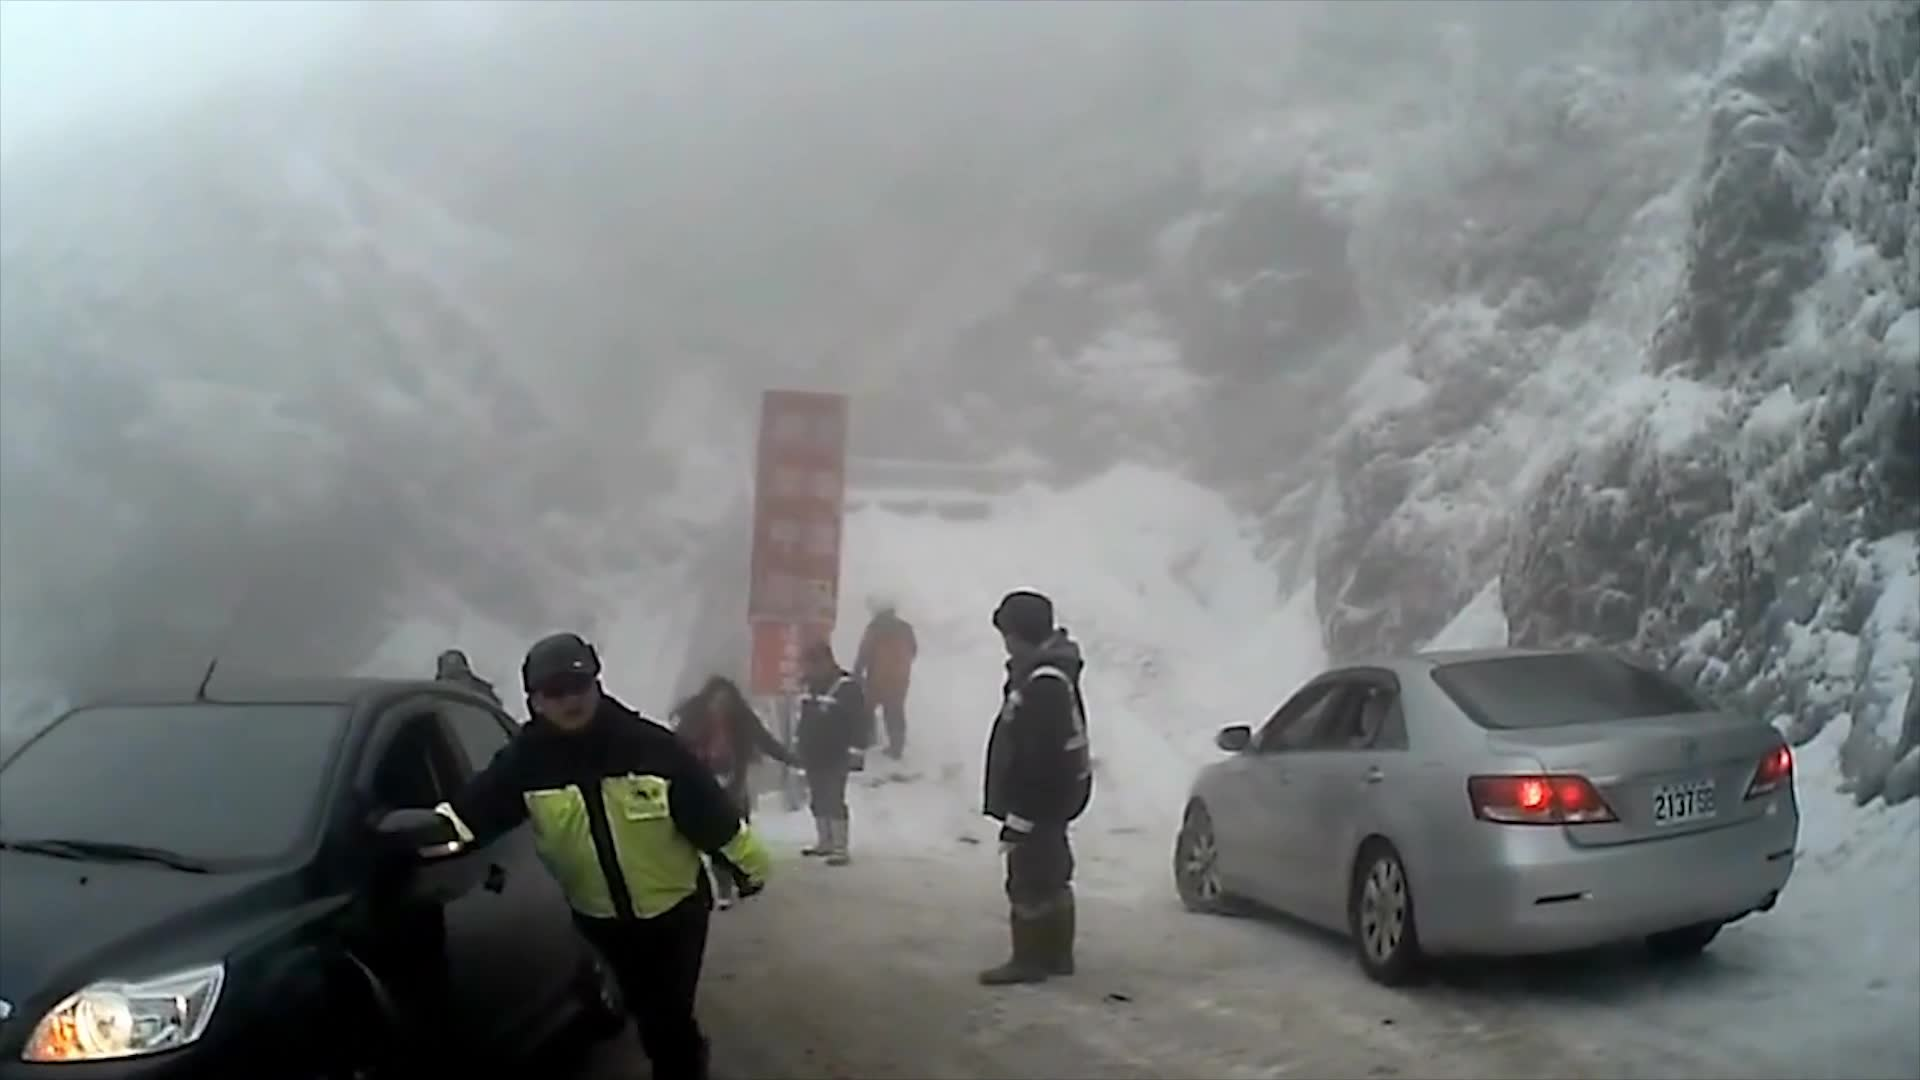pedestrian: (398, 637, 767, 1080), (958, 585, 1090, 983), (668, 671, 802, 913), (791, 638, 866, 863), (842, 584, 915, 760)
vehicle: (0, 673, 648, 1080), (1161, 639, 1796, 983)
